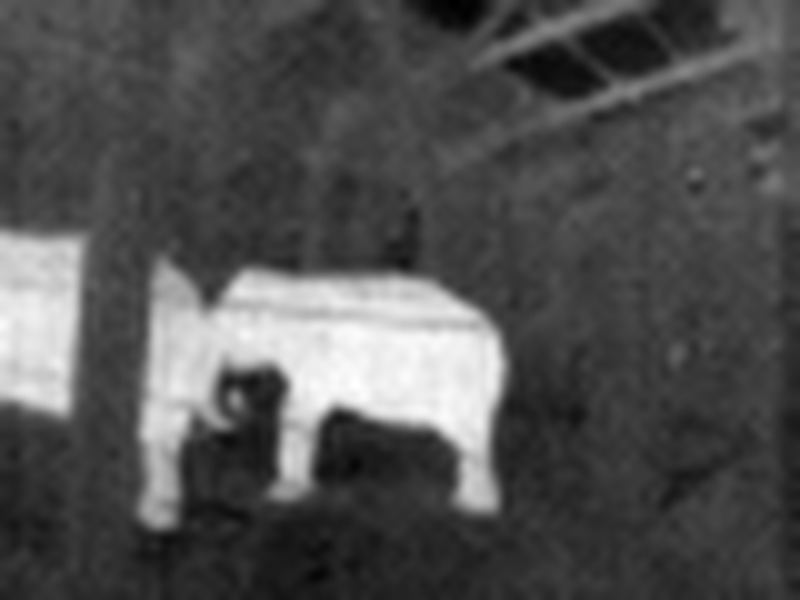elephant: (1, 223, 507, 527)
